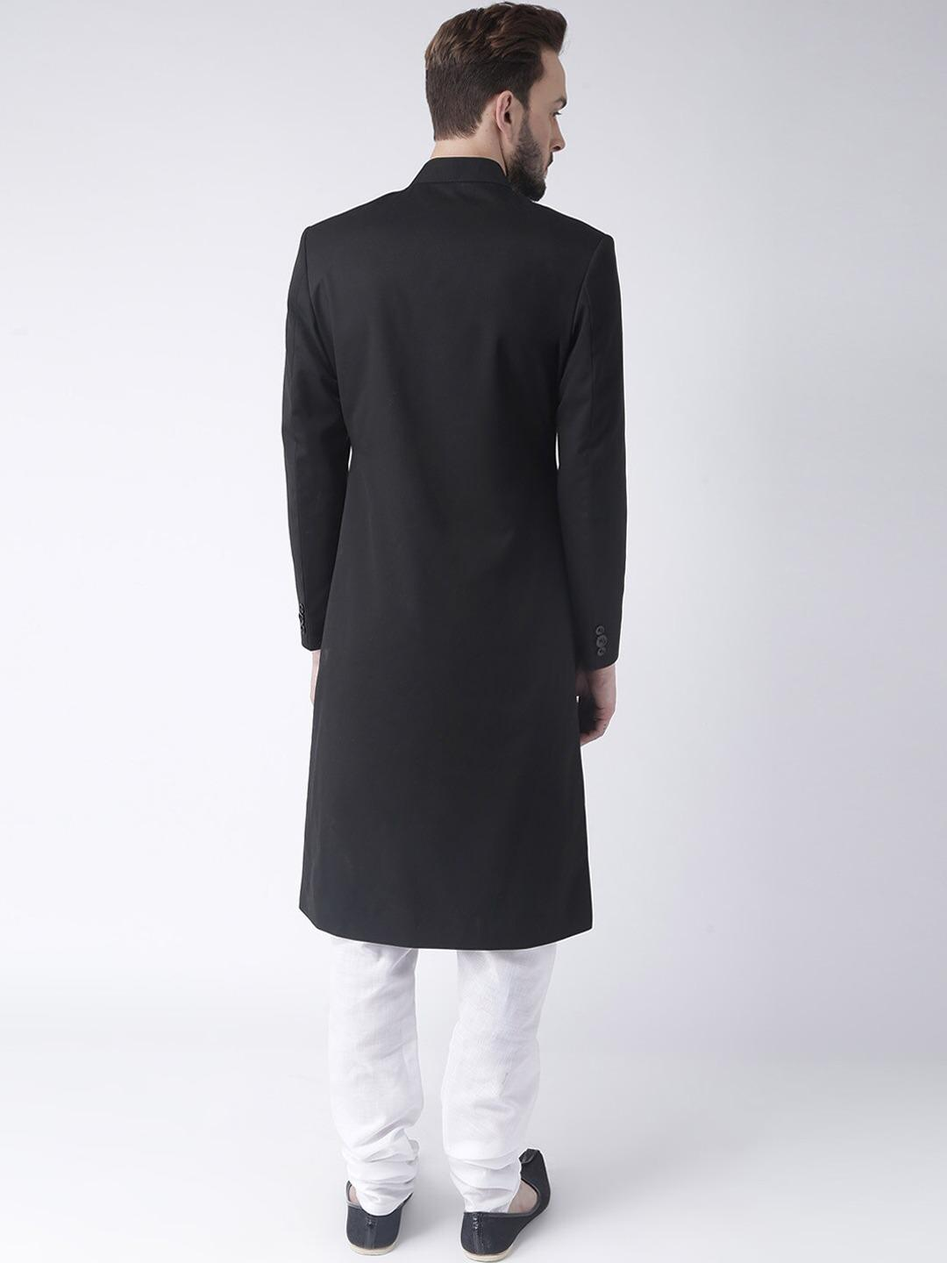Plain Sherwani: (273, 159, 631, 955)
